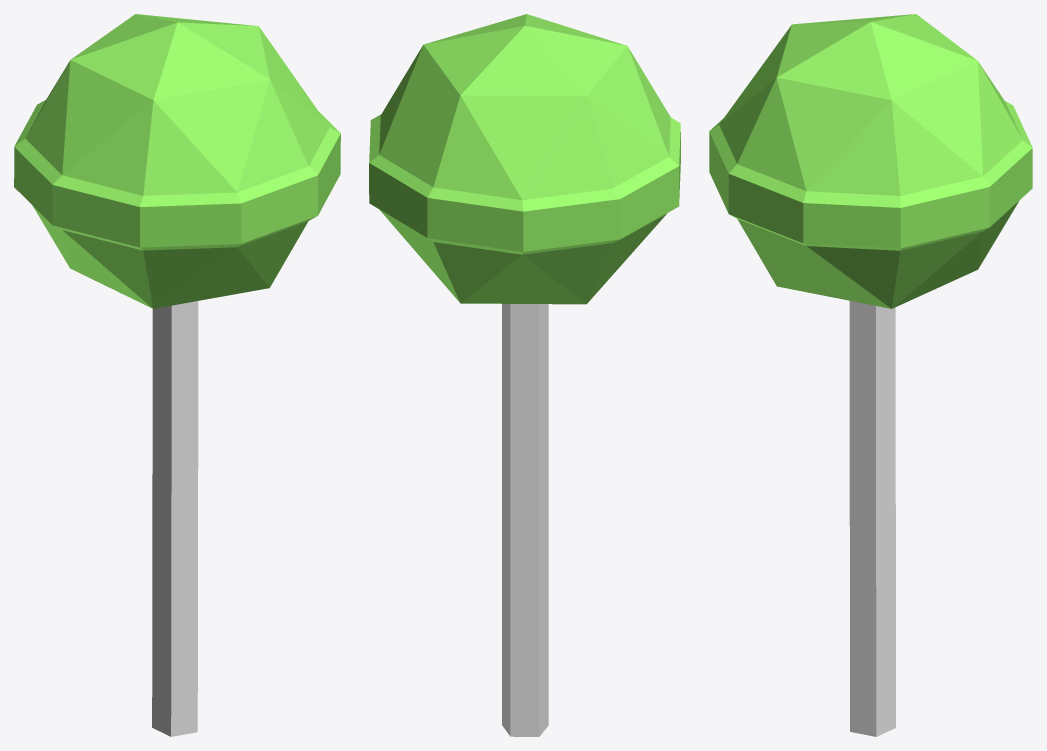
File: lollipop_green.fbx
3 views of the same model, side by side, from view 1: azimuth 30°, elevation 25°; view 2: azimuth 150°, elevation 25°; view 3: azimuth 270°, elevation 25° (orthographic).
Parts seen in each view (by area): view 1: lollipop_green; view 2: lollipop_green; view 3: lollipop_green.
Boxes of the visible parts, x1,y1,x2,y2 form: lollipop_green: [14, 14, 340, 736]; lollipop_green: [369, 14, 680, 736]; lollipop_green: [709, 14, 1032, 736].
Bounding box in the file's own units: 3.41 × 8.22 × 3.42.
